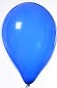Balloon: (2, 2, 57, 84)
